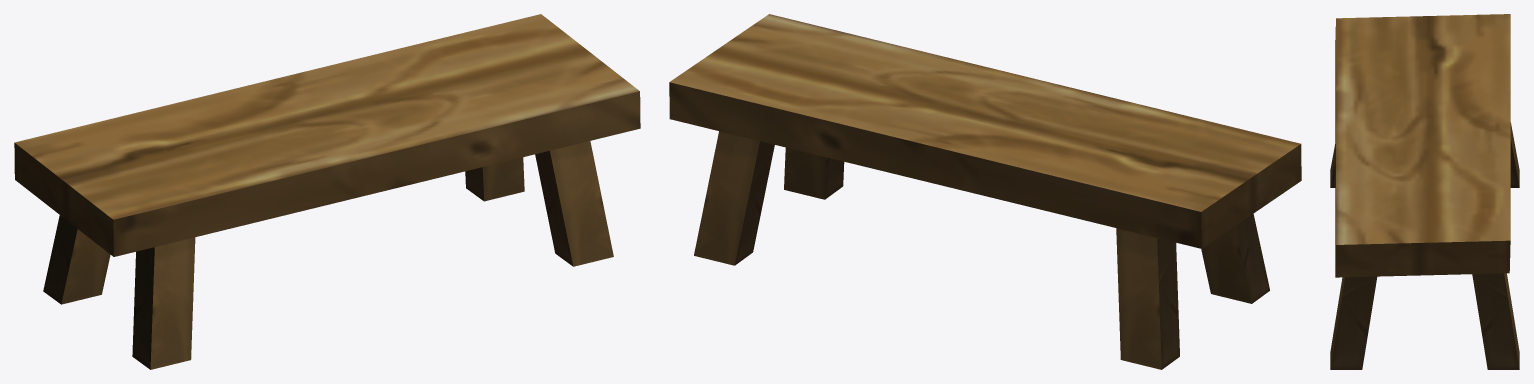
The model's file is OutdoorM_Table_b_bench.FBX.
3 renders of one model, left to right at view 1: azimuth 30°, elevation 25°; view 2: azimuth 150°, elevation 25°; view 3: azimuth 270°, elevation 25°, orthographic. The views are drawn at different scales.
Visible parts, largest first — view 1: OutdoorM_Table_b_bench; view 2: OutdoorM_Table_b_bench; view 3: OutdoorM_Table_b_bench.
Boxes of the visible parts, x1,y1,x2,y2 form: OutdoorM_Table_b_bench: (14,14,640,369); OutdoorM_Table_b_bench: (669,14,1301,369); OutdoorM_Table_b_bench: (1330,14,1519,369).
Size of the model in its own units: 15.35 by 4.48 by 5.42.
